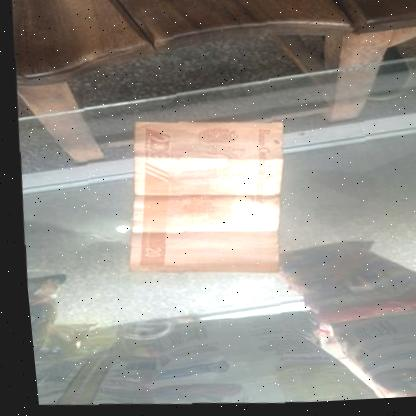twenty-back-vef: (110, 115, 291, 282)
